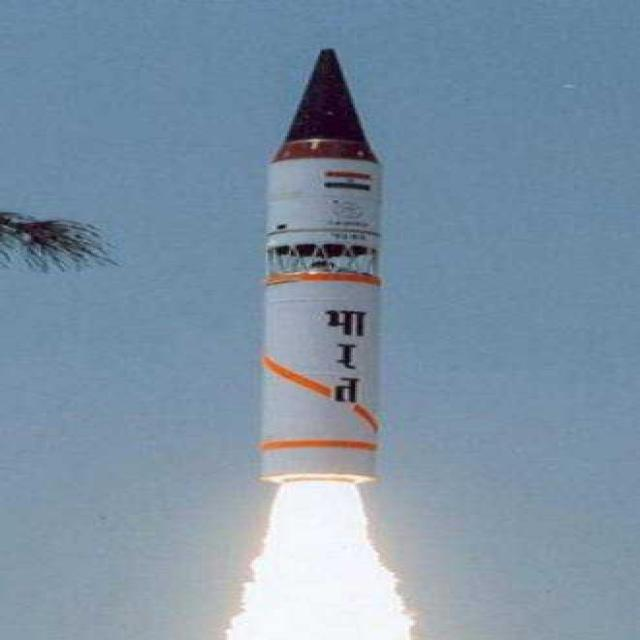missile: (242, 38, 384, 482)
